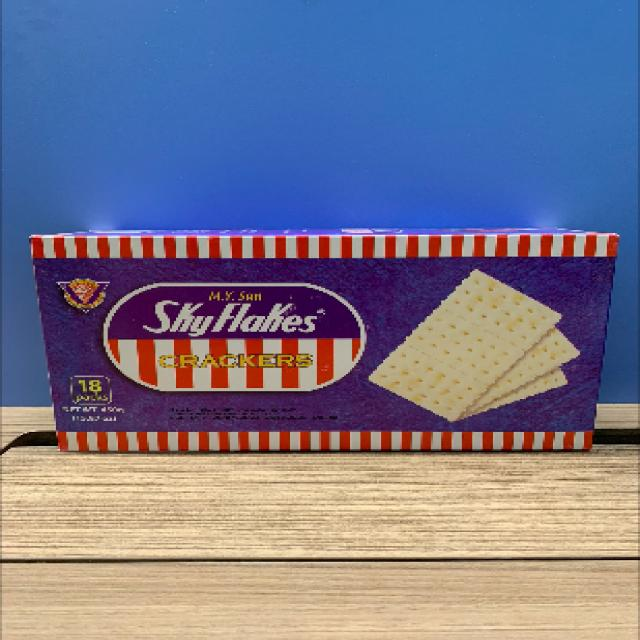object_name: (35, 236, 599, 446)
